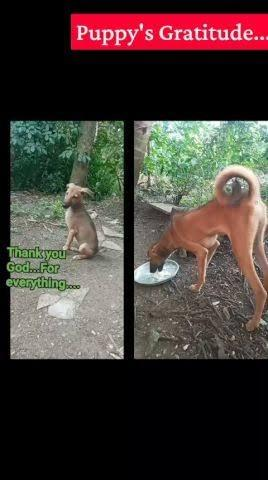adult_dog: (147, 164, 268, 333)
puppy-dog: (60, 182, 107, 263)
